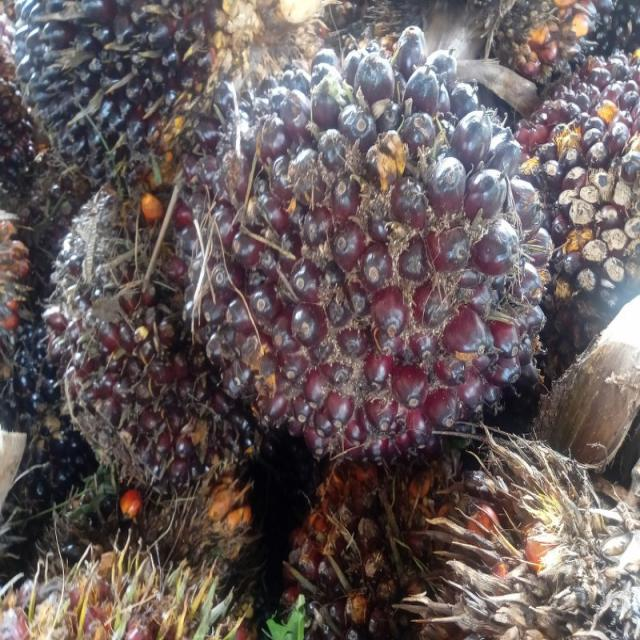fraksi 1: (189, 44, 548, 449)
